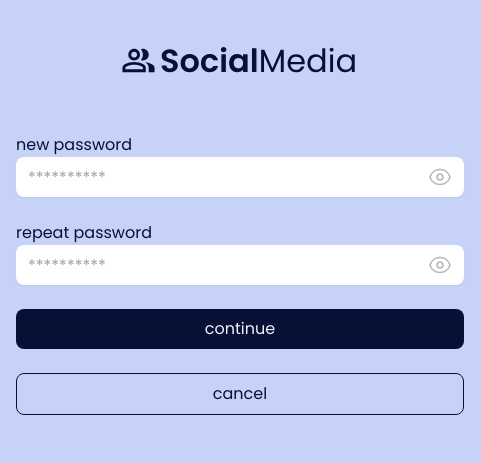
Test: NewPasswordPage › shows API error when set password fails
This screenshot has width=481, height=463.
Step 1. Type "Password123" into the password field labelled "new password" → (240, 177), box [16,157,464,197]
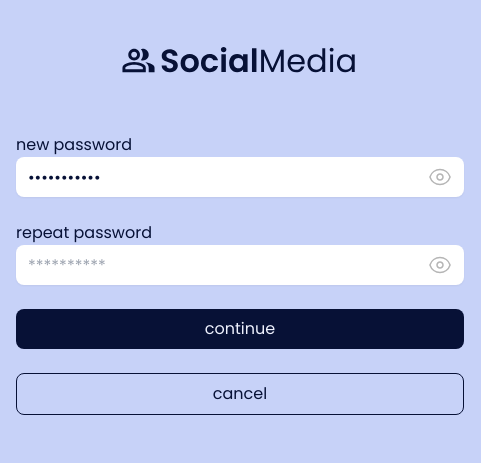
Step 2. Type "Password123" into the password field labelled "repeat password" → (240, 265), box [16,245,464,285]
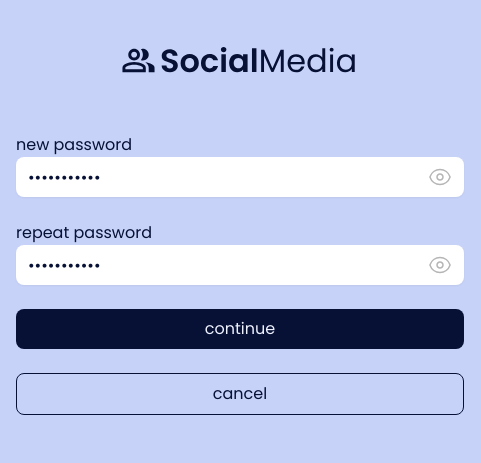
Step 3. Click the button "continue" → (240, 329), box [16,309,464,349]
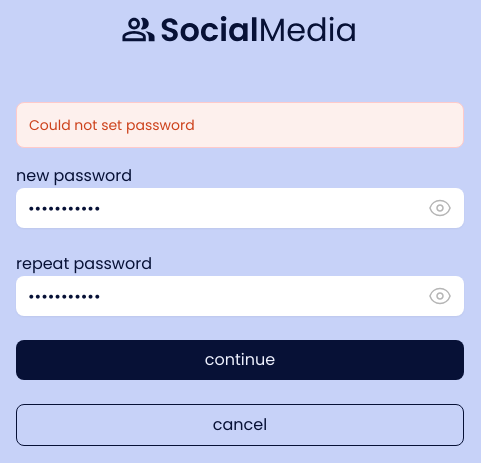
Now the text "Could not set password" is shown, box [29,115,195,135]
